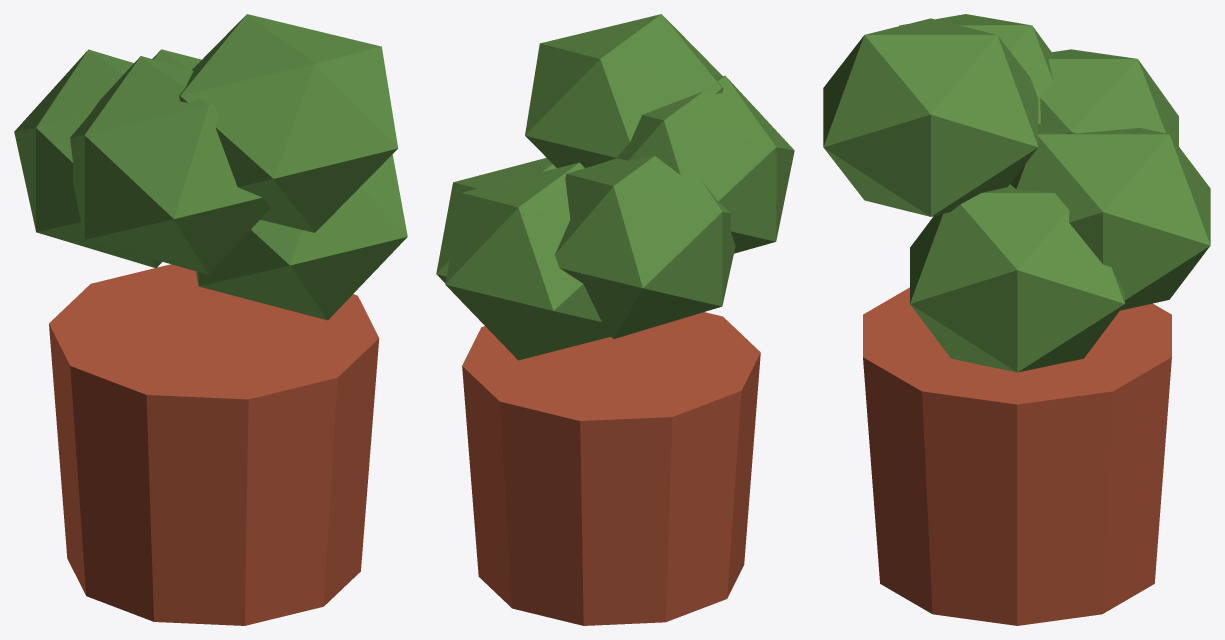
File: Plant_Small.obj
3 renders of one model, left to right at view 1: azimuth 30°, elevation 25°; view 2: azimuth 150°, elevation 25°; view 3: azimuth 270°, elevation 25°, orthographic. The views are drawn at different scales.
Parts seen in each view (by area): view 1: Plant_Small; view 2: Plant_Small; view 3: Plant_Small.
Boxes of the visible parts, box(x1,y1,x2,y2) form: Plant_Small: box(14, 14, 407, 625); Plant_Small: box(436, 14, 794, 625); Plant_Small: box(823, 14, 1210, 625).
Bounding box in the file's own units: 0.2071 × 0.3306 × 0.2145.
